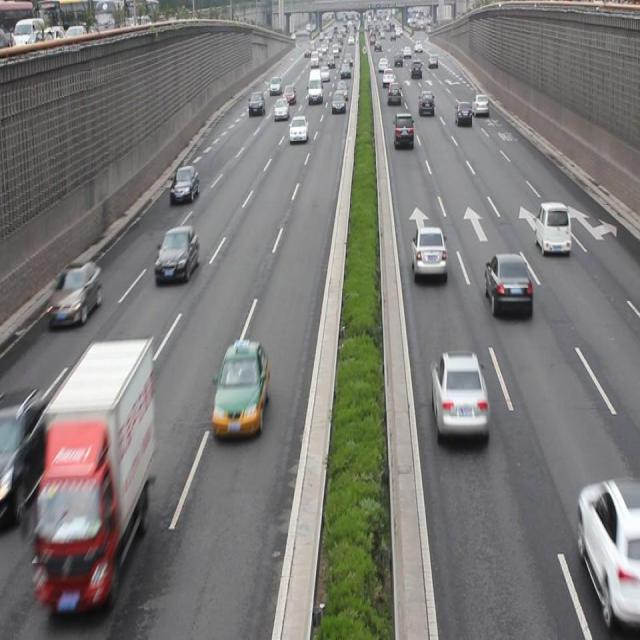bus: (35, 334, 156, 609)
car: (576, 475, 640, 626), (0, 384, 50, 526), (212, 339, 269, 435), (431, 348, 486, 438), (46, 258, 102, 328), (484, 253, 530, 316), (154, 222, 198, 286), (534, 200, 570, 254), (410, 225, 446, 278), (168, 163, 198, 201), (393, 112, 415, 148), (288, 114, 309, 146), (454, 100, 474, 128)
